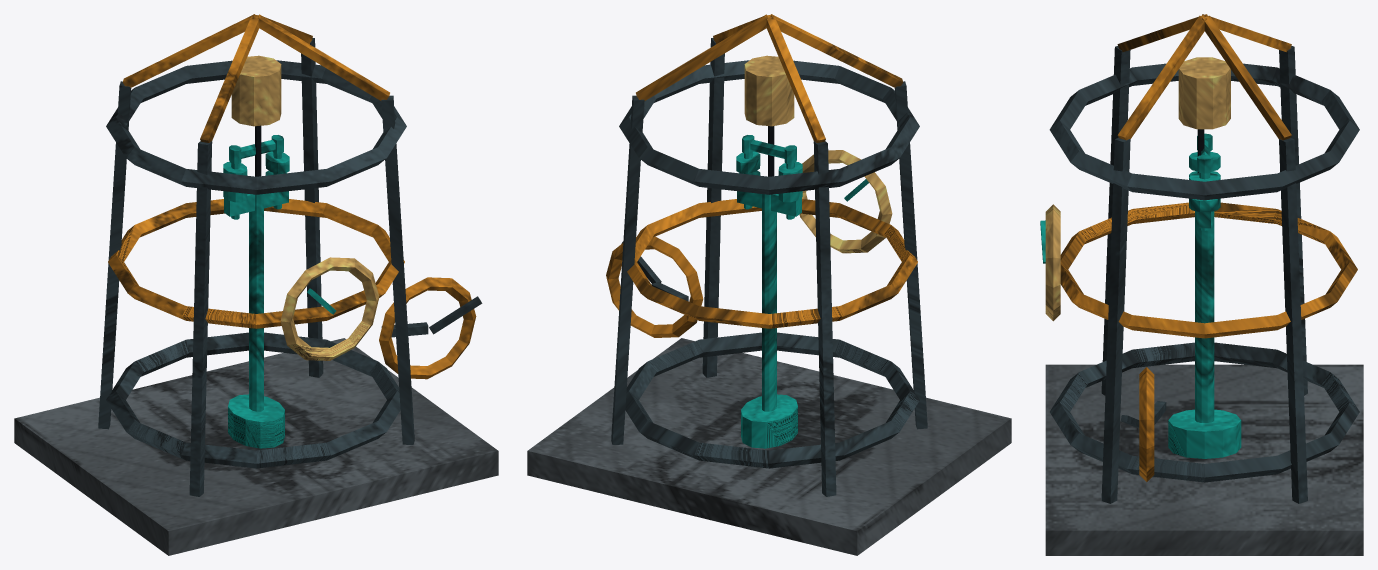
Rendered from east-mothglass-prize-cage.glb.
The picture shows the model from 3 angles, left to right: view 1: azimuth 30°, elevation 25°; view 2: azimuth 150°, elevation 25°; view 3: azimuth 270°, elevation 25°; orthographic projection. The views are drawn at different scales.
Visible parts, largest first — view 1: east-mothglass-prize-cage; view 2: east-mothglass-prize-cage; view 3: east-mothglass-prize-cage.
Part boxes in pixels (<box>): east-mothglass-prize-cage: <box>14,14,498,555</box>; east-mothglass-prize-cage: <box>527,14,1011,555</box>; east-mothglass-prize-cage: <box>1040,14,1363,555</box>.
Size of the model in its own units: 4.54 by 5.39 by 3.46.
1 material, 1 textured.
